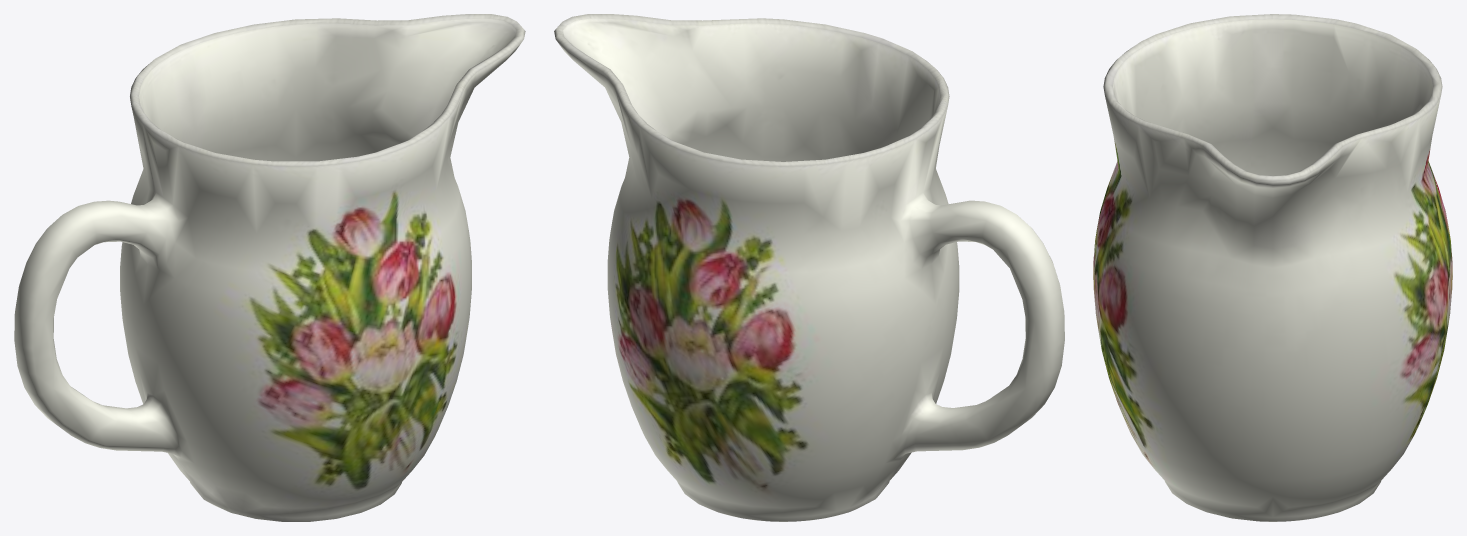
The model's file is jug_01.glb.
3 views of the same model, side by side, from view 1: azimuth 30°, elevation 25°; view 2: azimuth 150°, elevation 25°; view 3: azimuth 270°, elevation 25° (orthographic). The views are drawn at different scales.
Visible parts, largest first — view 1: jug_01; view 2: jug_01; view 3: jug_01.
Boxes of the visible parts, <box> form: jug_01: <box>14,14,525,521</box>; jug_01: <box>554,14,1064,521</box>; jug_01: <box>1093,14,1452,521</box>.
Bounding box in the file's own units: 0.275 × 0.2113 × 0.1675.
Materials: 1 (1 with a texture image).
